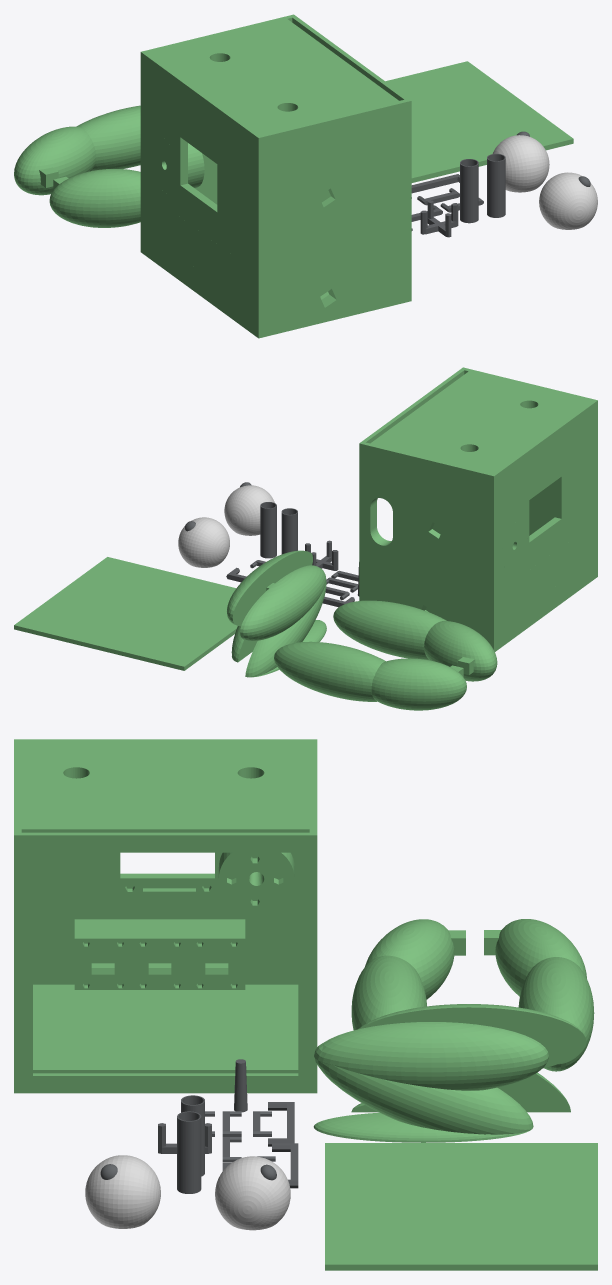
The model's file is boite finis.glb.
3 renders of one model, top to bottom at view 1: azimuth 30°, elevation 25°; view 2: azimuth 150°, elevation 25°; view 3: azimuth 270°, elevation 25°, orthographic. The views are drawn at different scales.
Visible parts, largest first — view 1: Mesh_Mesh_head_geo.001_lambert2SG.001; view 2: Mesh_Mesh_head_geo.001_lambert2SG.001; view 3: Mesh_Mesh_head_geo.001_lambert2SG.001.
Boxes of the visible parts, left/top/right/bottom form: Mesh_Mesh_head_geo.001_lambert2SG.001: left=14, top=14, right=597, bottom=338; Mesh_Mesh_head_geo.001_lambert2SG.001: left=14, top=367, right=597, bottom=710; Mesh_Mesh_head_geo.001_lambert2SG.001: left=14, top=739, right=597, bottom=1270.
Size of the model in its own units: 0.1886 by 0.075 by 0.154.
